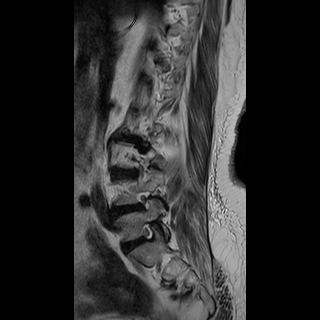RFS1: (134, 217, 160, 249)
